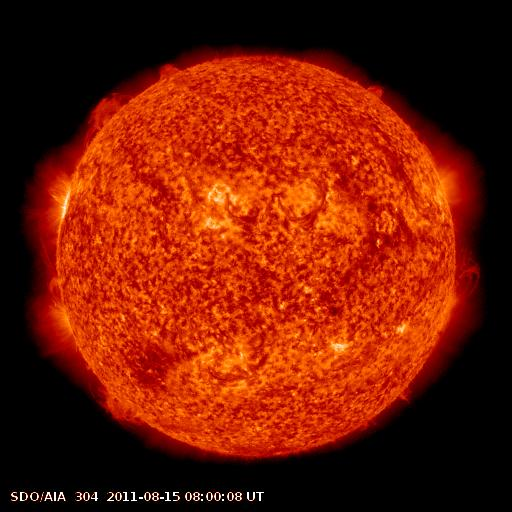prominence: (81, 379, 162, 437), (83, 84, 133, 149), (36, 228, 71, 302), (446, 240, 483, 302), (152, 52, 192, 90), (362, 72, 396, 108)
